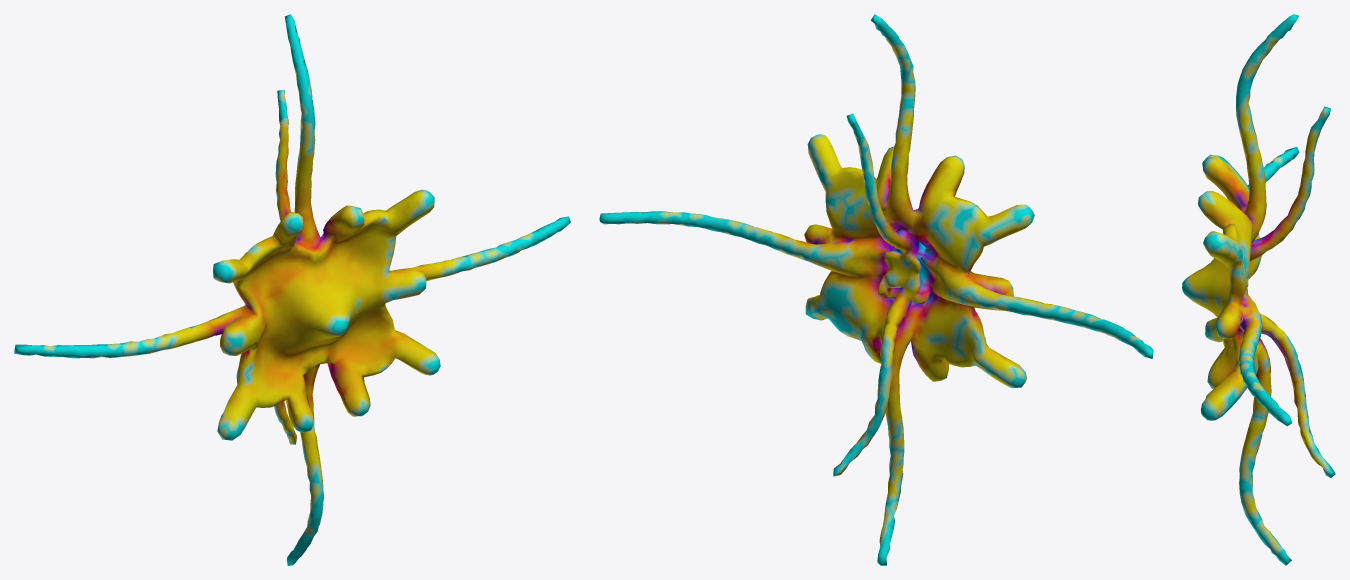
The model's file is jelly_40.gltf.
3 views of the same model, side by side, from view 1: azimuth 30°, elevation 25°; view 2: azimuth 150°, elevation 25°; view 3: azimuth 270°, elevation 25° (orthographic).
Visible parts, largest first — view 1: jellysquid3; view 2: jellysquid3; view 3: jellysquid3.
Boxes of the visible parts, x1,y1,x2,y2 form: jellysquid3: (14,14,570,565); jellysquid3: (599,14,1153,565); jellysquid3: (1182,14,1335,565).
Bounding box in the file's own units: 32.05 × 30.41 × 7.66.
